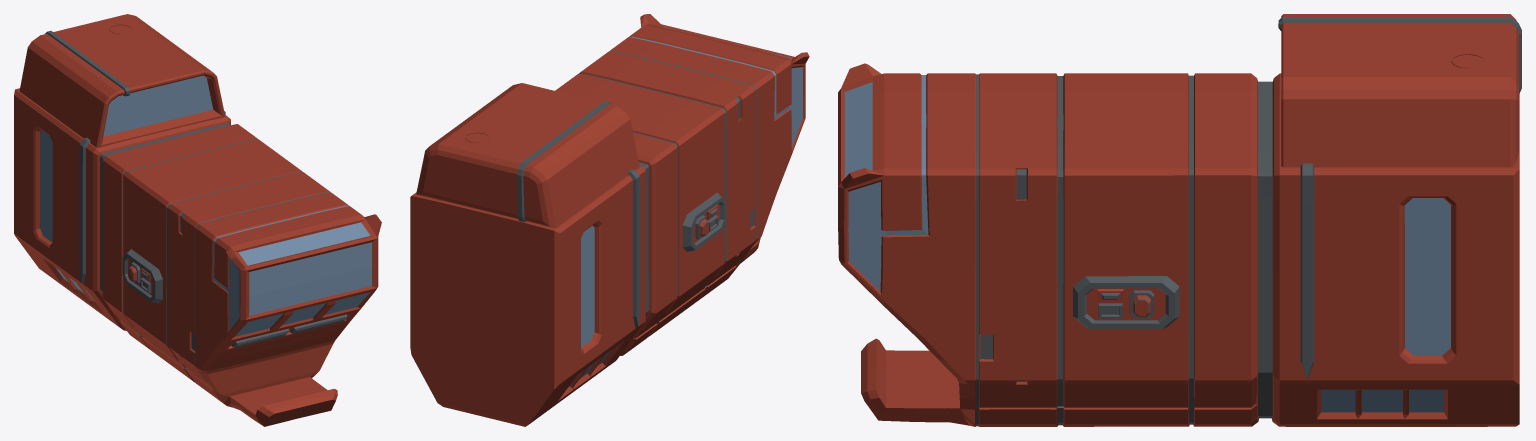
Rendered from Dropship_02_Body_Red.fbx.
3 renders of one model, left to right at view 1: azimuth 30°, elevation 25°; view 2: azimuth 150°, elevation 25°; view 3: azimuth 270°, elevation 25°, orthographic. The views are drawn at different scales.
Visible parts, largest first — view 1: Dropship_02_Body_Red; view 2: Dropship_02_Body_Red; view 3: Dropship_02_Body_Red.
Part boxes in pixels (x1,y1,x2,y2): Dropship_02_Body_Red: [14, 14, 381, 426]; Dropship_02_Body_Red: [410, 14, 809, 426]; Dropship_02_Body_Red: [838, 14, 1521, 426].
Bounding box in the file's own units: 495 × 734 × 1268.
3 materials, 3 textured.
